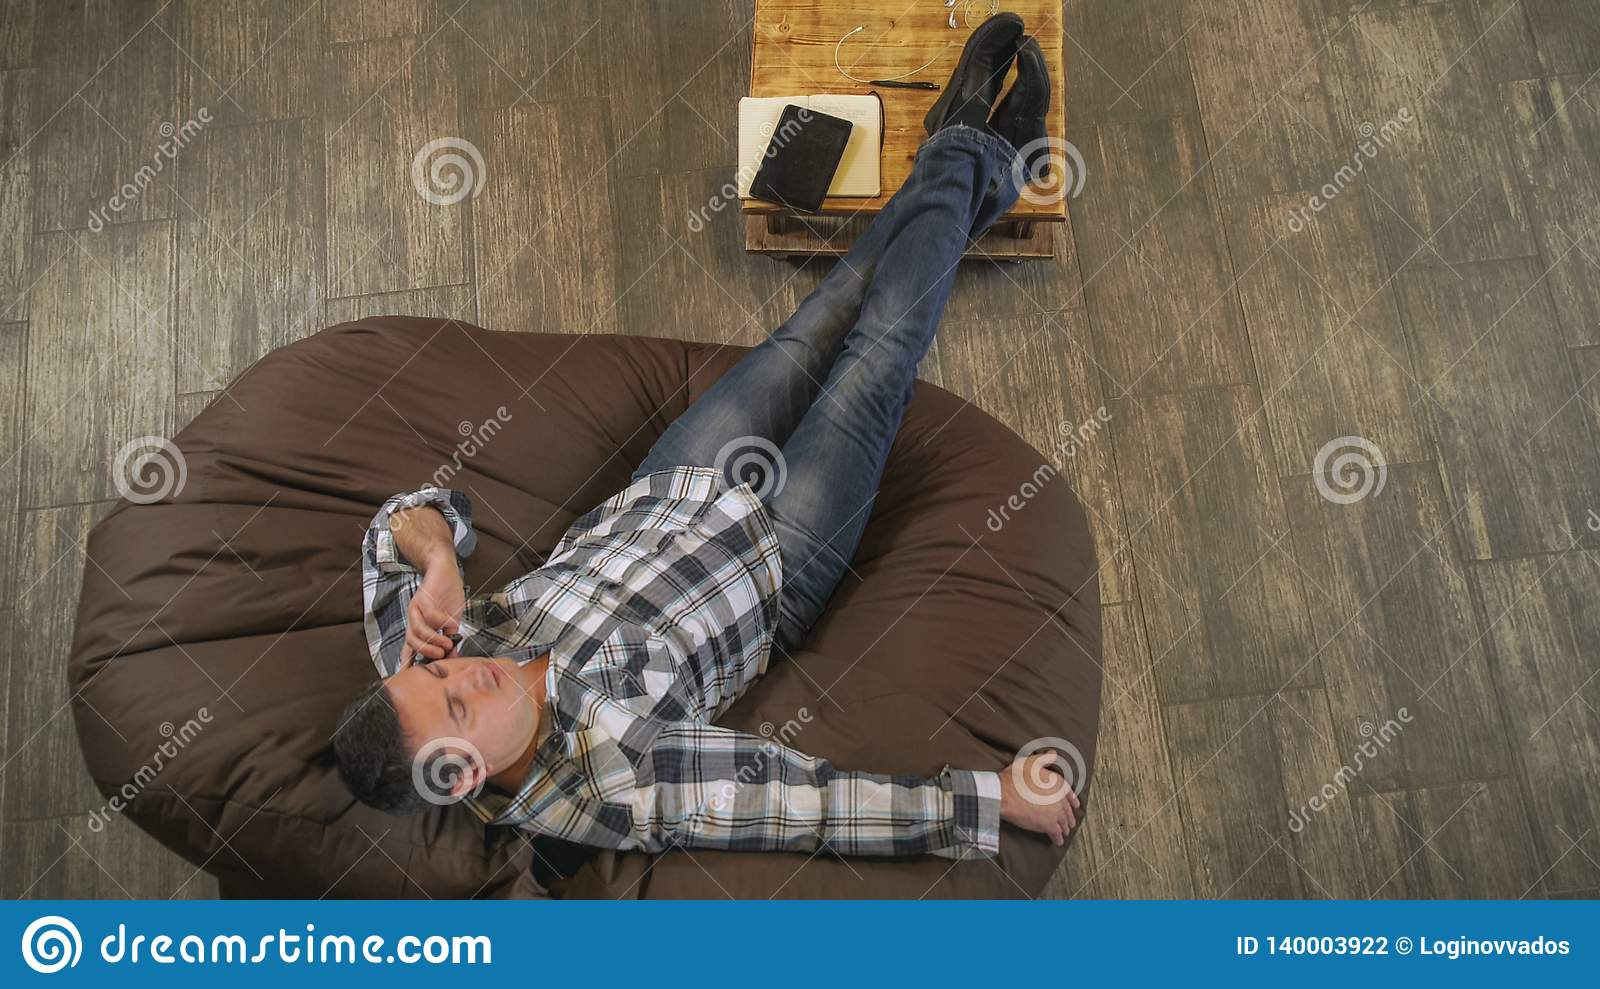phone: (410, 622, 467, 670)
talk: (384, 539, 523, 769)
